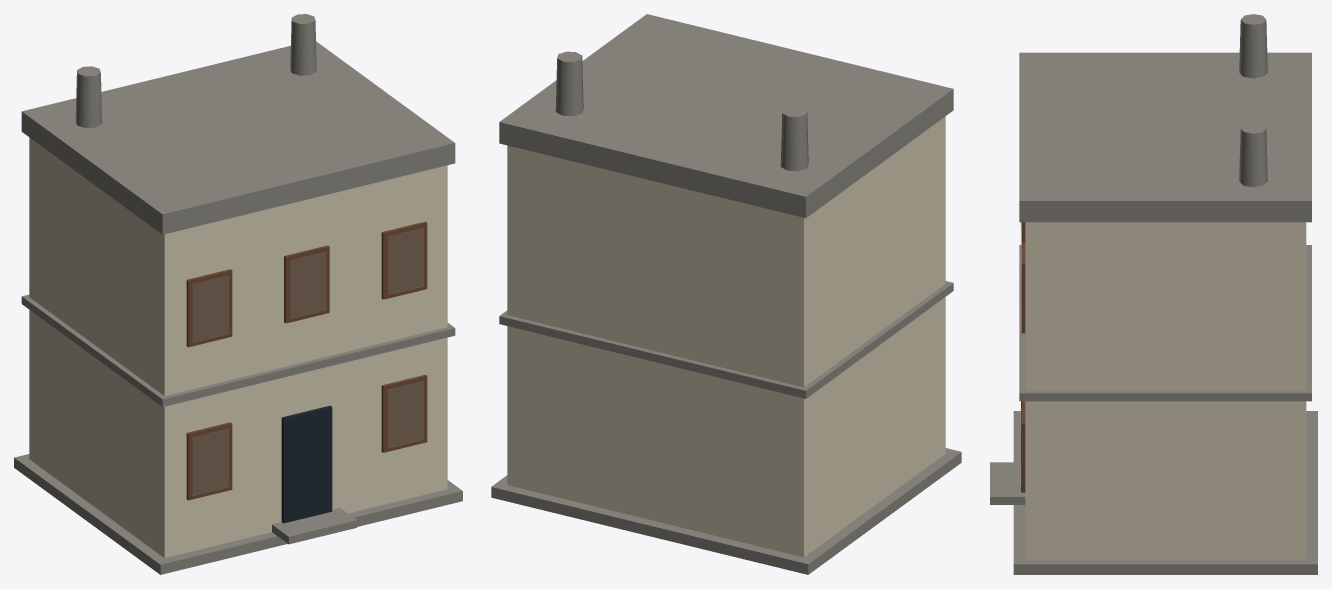
Rendered from townhouse-lod1.glb.
The picture shows the model from 3 angles, left to right: view 1: azimuth 30°, elevation 25°; view 2: azimuth 150°, elevation 25°; view 3: azimuth 270°, elevation 25°; orthographic projection. The views are drawn at different scales.
Visible parts, largest first — view 1: body, parapet, window-frame (×5), window-glass (×5), plinth, door, string-course, chimney (×2), door-step; view 2: body, parapet, plinth, string-course, chimney (×2); view 3: body, parapet, plinth, string-course, chimney (×2), door-step, window-frame (×2).
Boxes of the visible parts, x1,y1,x2,y2 form: body: [29, 137, 447, 558]; parapet: [21, 41, 455, 234]; window-frame (×5): [186, 221, 427, 500]; window-glass (×5): [193, 228, 423, 495]; plinth: [14, 454, 462, 574]; door: [281, 405, 332, 523]; string-course: [21, 294, 455, 406]; chimney (×2): [75, 14, 316, 127]; door-step: [272, 508, 356, 544]; body: [507, 116, 945, 557]; parapet: [499, 14, 953, 218]; plinth: [491, 448, 961, 574]; string-course: [499, 281, 953, 398]; chimney (×2): [555, 51, 808, 171]; body: [1025, 222, 1306, 559]; parapet: [1019, 52, 1311, 222]; plinth: [1013, 411, 1317, 574]; string-course: [1019, 245, 1311, 401]; chimney (×2): [1239, 14, 1267, 187]; door-step: [990, 462, 1025, 504]; window-frame (×2): [1021, 242, 1025, 492].
Bounding box in the file's own units: 6.2 × 8 × 5.6.
